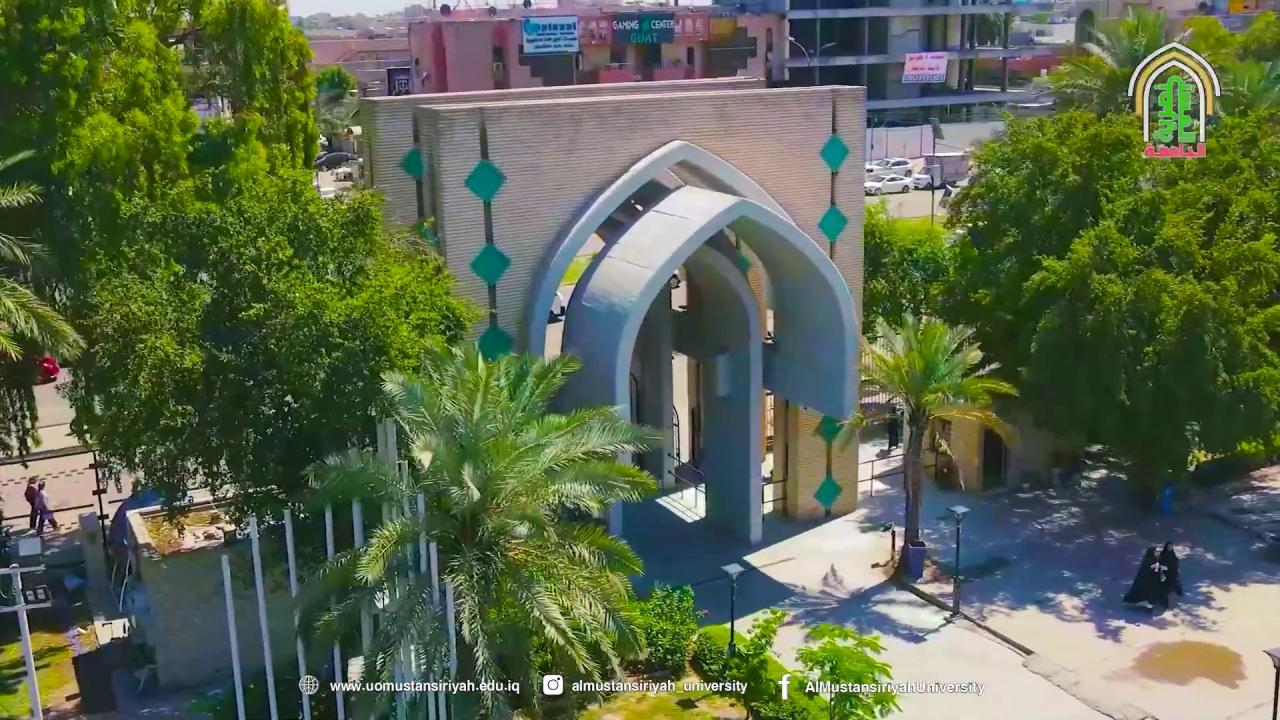car: (863, 173, 911, 195), (864, 156, 913, 176), (313, 151, 359, 172), (332, 165, 353, 181), (1046, 12, 1071, 24)
person: (1121, 540, 1183, 612), (33, 479, 58, 535), (24, 475, 41, 530), (885, 406, 900, 452)
tree: (931, 6, 1279, 512), (55, 141, 484, 547), (0, 0, 320, 467), (290, 337, 664, 718), (933, 105, 1161, 485), (1017, 202, 1272, 512), (848, 310, 1019, 580), (0, 175, 87, 468), (720, 608, 902, 719), (1038, 3, 1168, 115), (615, 582, 707, 688)
